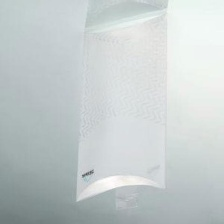plastic_box: (66, 5, 173, 216)
